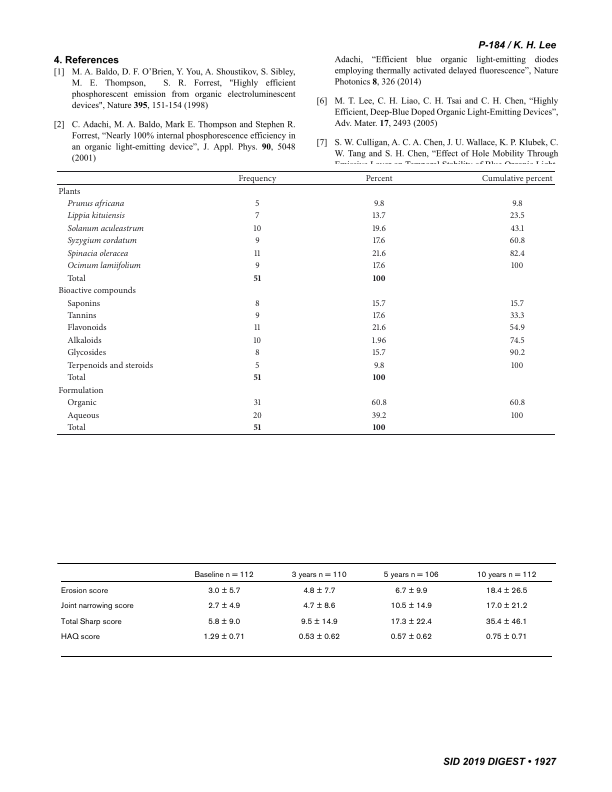borderless: (55, 169, 555, 434), (56, 561, 552, 656)
cell: (66, 360, 154, 371), (57, 285, 137, 296), (66, 223, 145, 234), (66, 260, 142, 271), (481, 173, 554, 184), (59, 602, 134, 612), (66, 236, 138, 246), (66, 248, 129, 259), (66, 198, 125, 209), (59, 617, 122, 627), (475, 570, 537, 580), (193, 570, 254, 580), (66, 211, 126, 221), (290, 570, 347, 580), (382, 570, 439, 580), (57, 385, 104, 396), (59, 586, 108, 596), (484, 586, 528, 596), (484, 602, 528, 612), (484, 617, 528, 627), (484, 633, 528, 643), (389, 602, 432, 612), (389, 617, 432, 627), (202, 633, 245, 643), (297, 633, 340, 643), (389, 633, 432, 643), (238, 173, 277, 184), (66, 323, 108, 333), (59, 633, 100, 643), (66, 348, 107, 358), (66, 335, 103, 346), (299, 617, 338, 627), (66, 410, 100, 421), (66, 397, 98, 408), (66, 298, 101, 308), (66, 310, 97, 321), (207, 586, 241, 596), (302, 586, 336, 596), (394, 586, 428, 596), (207, 602, 241, 612), (302, 602, 336, 612), (207, 617, 241, 627), (365, 173, 394, 184), (57, 186, 81, 196), (66, 273, 87, 284), (66, 422, 87, 433), (66, 373, 87, 383), (509, 248, 526, 259), (509, 335, 526, 346), (371, 397, 388, 408), (509, 397, 526, 408), (371, 223, 387, 234), (371, 248, 387, 259), (509, 310, 525, 321), (371, 335, 387, 346), (371, 410, 387, 421), (509, 211, 526, 221), (509, 236, 526, 246), (509, 323, 526, 333), (509, 348, 526, 358), (510, 223, 525, 234), (371, 323, 387, 333), (372, 260, 386, 271), (510, 260, 524, 271), (372, 310, 386, 321), (510, 360, 524, 371), (510, 410, 524, 421), (372, 211, 387, 221), (372, 298, 387, 308), (510, 298, 525, 308), (372, 348, 387, 358), (511, 198, 524, 209), (372, 236, 386, 246), (372, 422, 387, 431), (373, 198, 385, 209), (373, 360, 385, 371), (252, 410, 263, 421), (372, 273, 387, 281), (372, 373, 387, 381), (253, 223, 262, 234), (253, 335, 262, 346), (253, 397, 262, 408), (253, 248, 261, 259), (253, 422, 262, 431), (253, 323, 261, 333), (254, 260, 261, 271), (254, 310, 261, 321), (253, 273, 262, 281), (253, 373, 262, 381), (254, 236, 261, 246), (254, 298, 261, 308), (254, 348, 261, 358), (254, 198, 260, 209), (254, 360, 260, 371), (254, 211, 260, 221)
